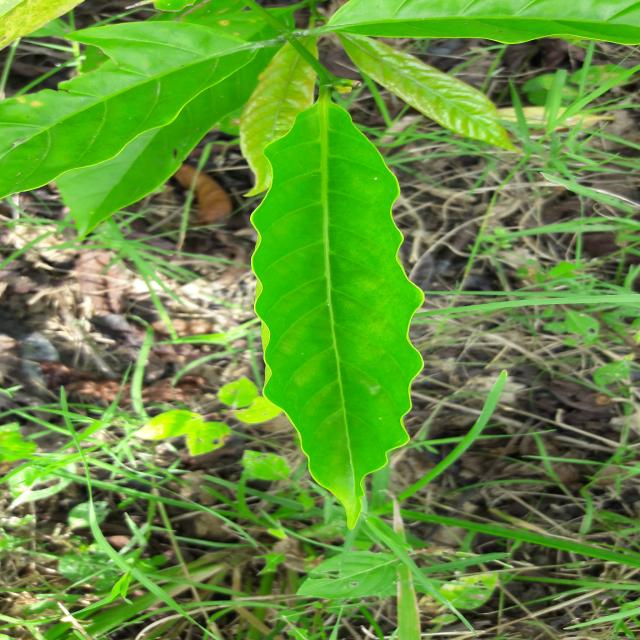Sanas: (250, 98, 423, 553)
